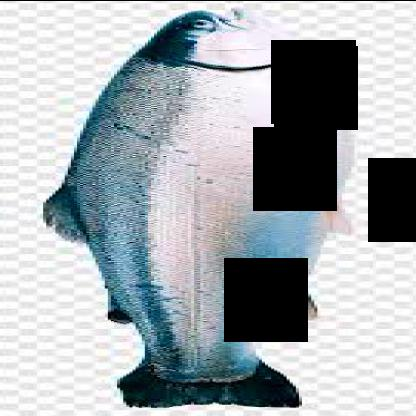fish: (34, 8, 358, 410)
